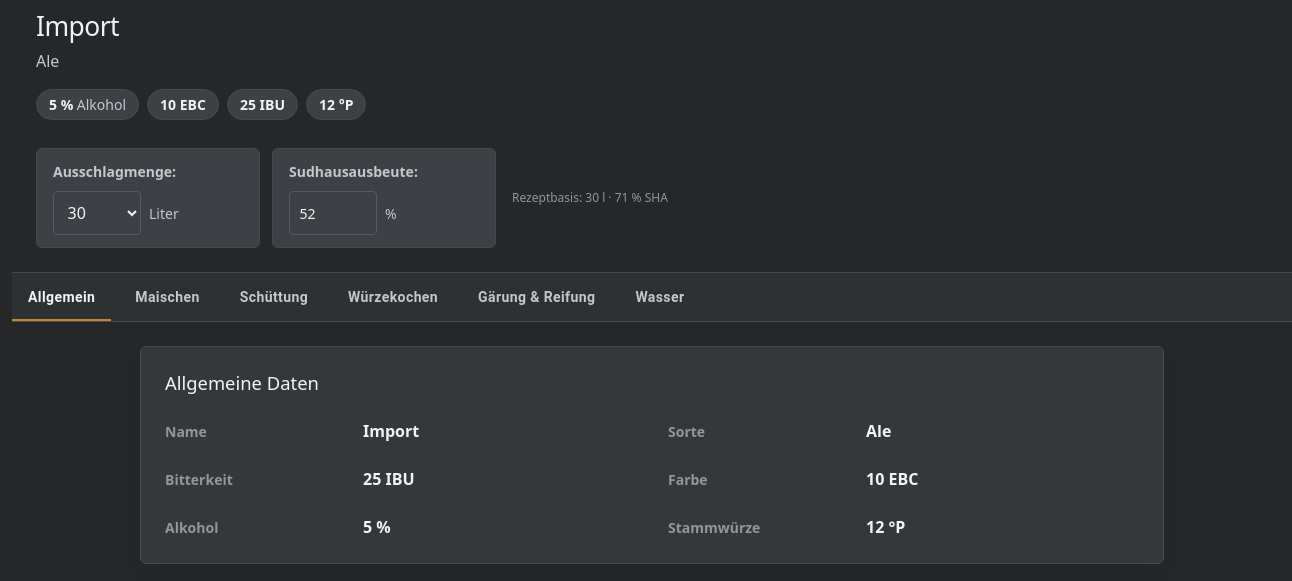
Scenario: loads the malt master data and resolves a recipe malt by its id
The image size is (1292, 581).
Click the tab "Schüttung" at (274, 297), box [224, 273, 324, 321]
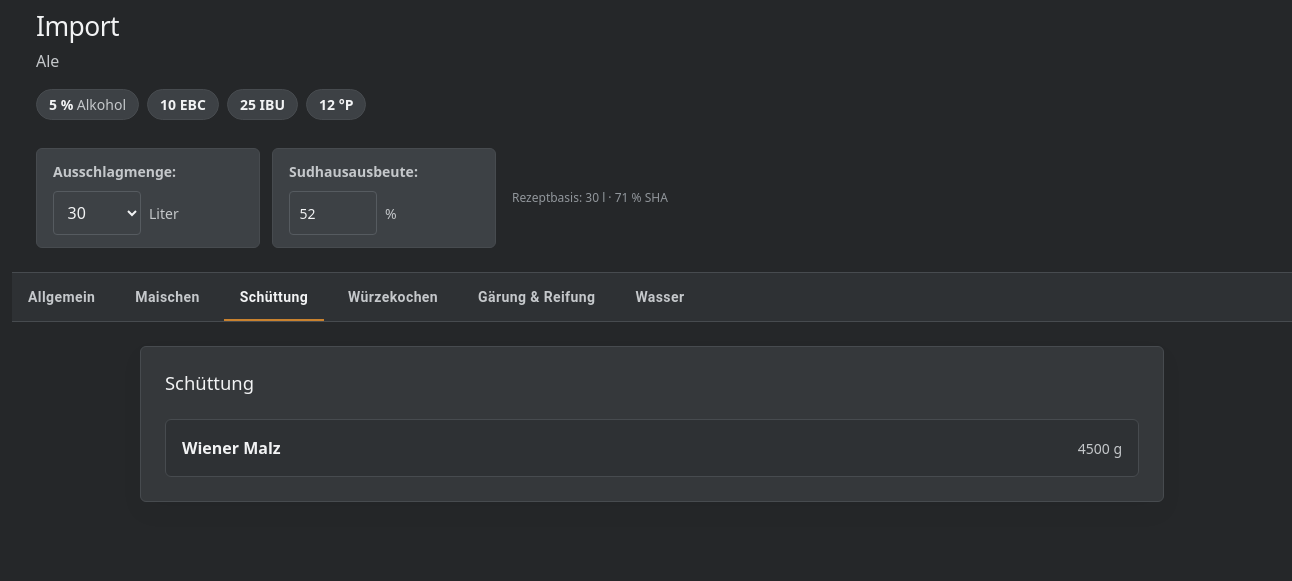
Check: the text "Wiener Malz" is shown, box [182, 436, 281, 460]
